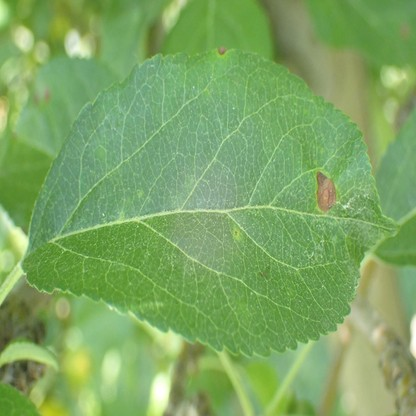frogeye_leaf_spot: (315, 171, 336, 212), (218, 47, 227, 54)
